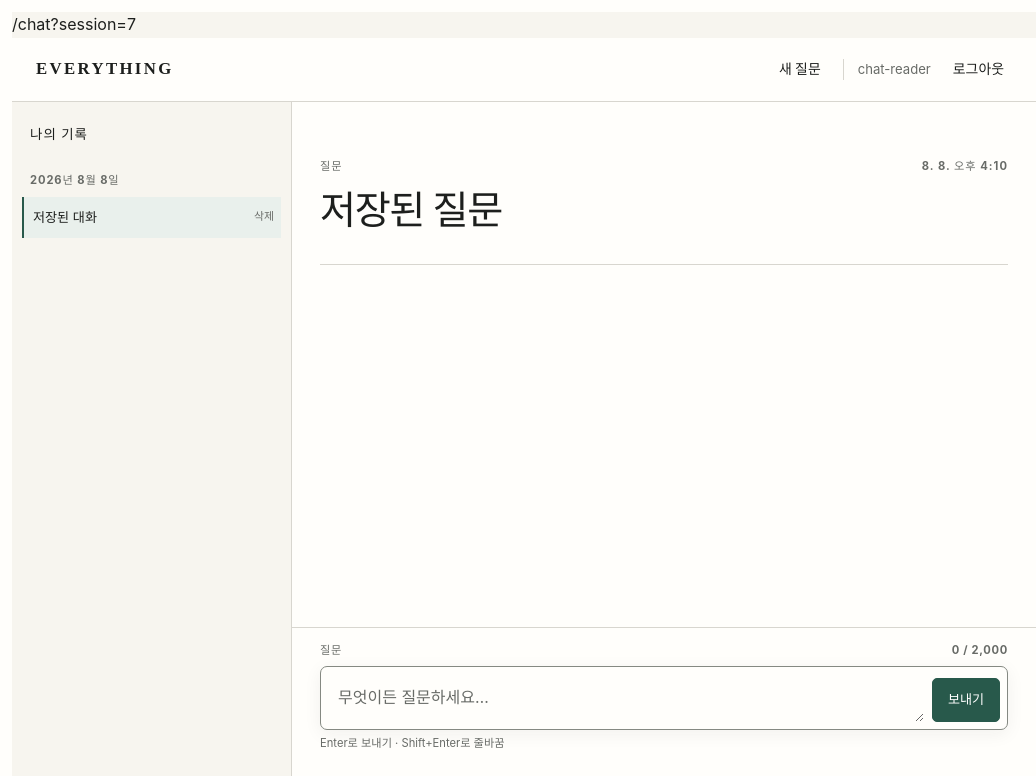
ChatPage › moves from a stored session to a blank question without a duplicate GET
Expected: the heading "저장된 질문" is shown, [320, 188, 502, 232]
Note: 상단의 새 질문 버튼은 AI 호출 없이 새 상태를 만든다.
What coordinates should you click on to do the following:
click the button "새 질문"
I would click on:
 (800, 69)
Its box is [771, 50, 829, 88].
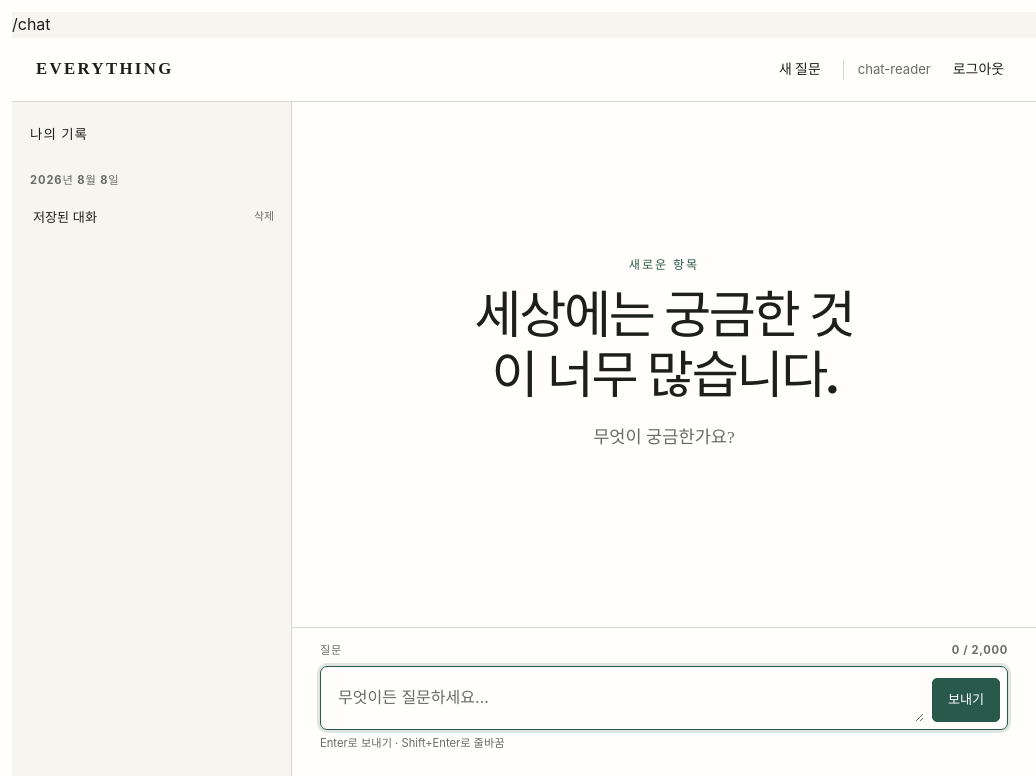
Expected: the text with test id "current-location" reads "/chat", [12, 14, 51, 34]
Expected: the heading "세상에는 궁금한 것이 너무 많습니다." is shown, [474, 287, 854, 404]
